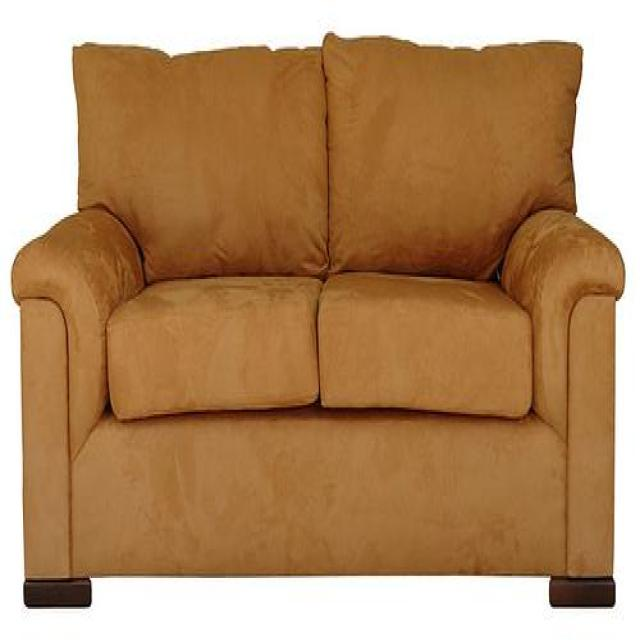sofa: (11, 31, 624, 609)
